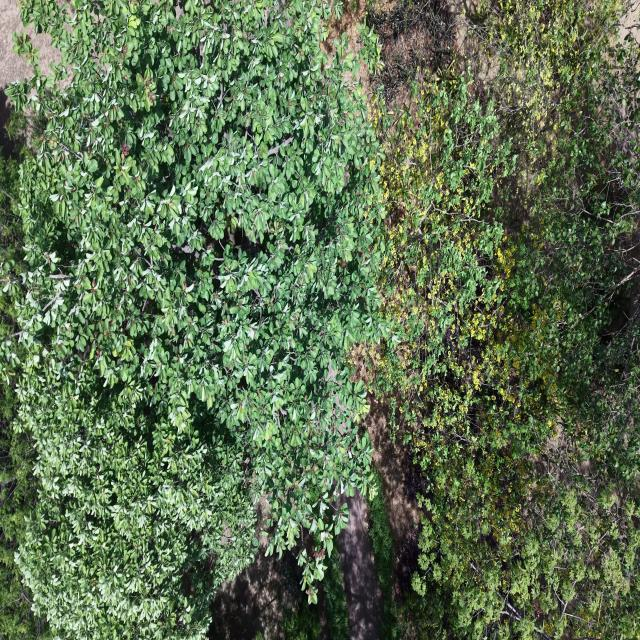DRY_AREA: (334, 0, 499, 105), (334, 0, 498, 105), (348, 0, 482, 106), (208, 499, 306, 639), (364, 394, 426, 604), (365, 395, 424, 601), (366, 396, 424, 598), (366, 396, 423, 598), (365, 396, 421, 599), (373, 0, 480, 105), (356, 0, 454, 109), (367, 399, 419, 597), (0, 0, 60, 149), (208, 548, 305, 639), (210, 549, 303, 639), (366, 395, 420, 543), (336, 492, 381, 639), (336, 494, 381, 639), (337, 495, 380, 639), (0, 0, 60, 90), (0, 0, 60, 88), (0, 0, 29, 152), (450, 0, 499, 85), (450, 0, 499, 81), (0, 0, 32, 87), (0, 0, 31, 89), (321, 0, 366, 59), (0, 0, 30, 87), (450, 0, 480, 50), (0, 88, 15, 159), (619, 0, 639, 41)
VEGETATION_TREE: (0, 0, 639, 639), (3, 0, 381, 638), (372, 0, 639, 639), (0, 377, 47, 639), (367, 470, 397, 638), (323, 553, 350, 639), (283, 597, 321, 639)
